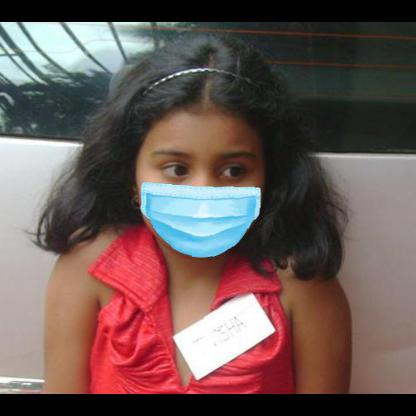Surgical Mask: (124, 106, 276, 258)
